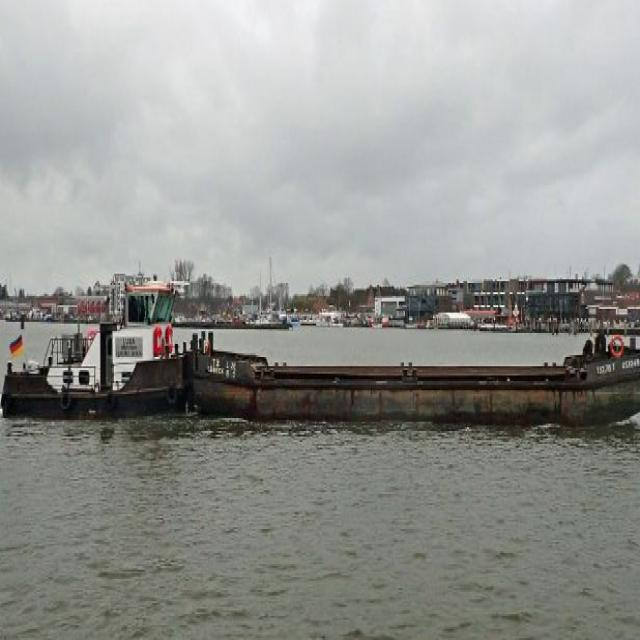tugboat: (1, 266, 220, 443)
